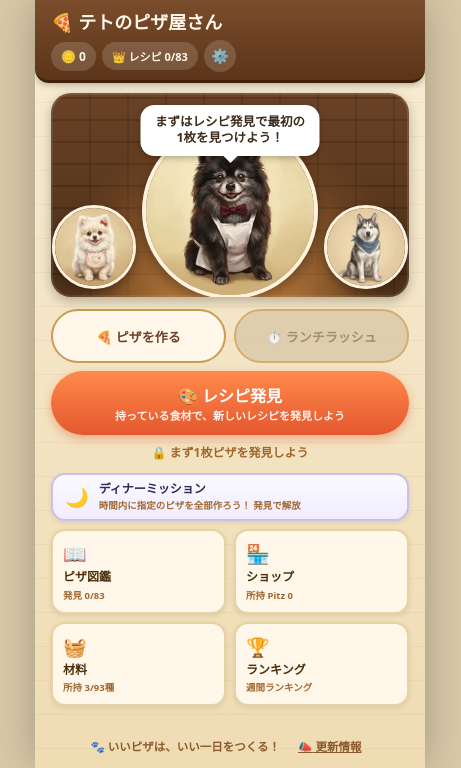
Test: HOME Global Overlay shell sizing (Dex/Shop/Inventory share one rule) › Weekly Ranking overlay panel (opened from HOME) uses the same shared shell as Dex/Shop/Inventory
The image size is (461, 768).
Click the button "🏆 ランキング 週間ランキング": (322, 664) [234,622,409,706]
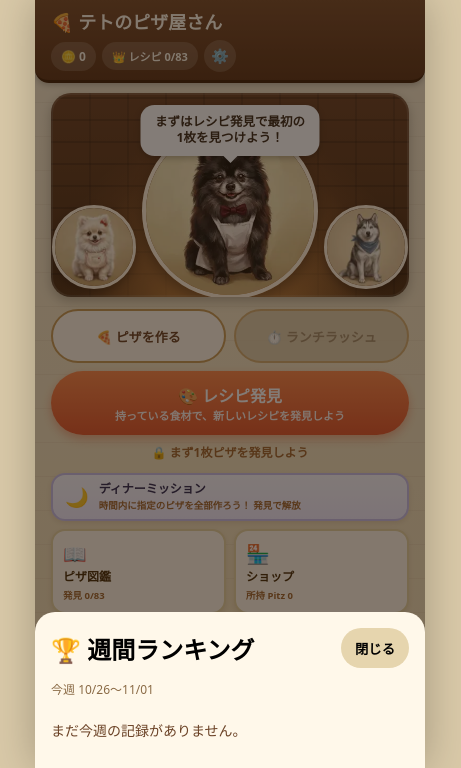
expect the element with class "dex-overlay__panel" is shown: met, box [35,612,425,767]
expect the element with class "ranking-overlay" is shown: met
